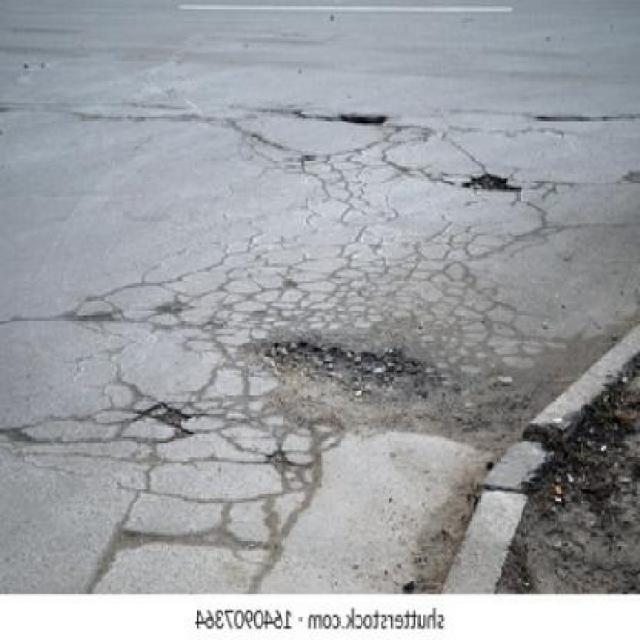pothole: (256, 338, 432, 418), (466, 168, 520, 194), (337, 109, 386, 131)
